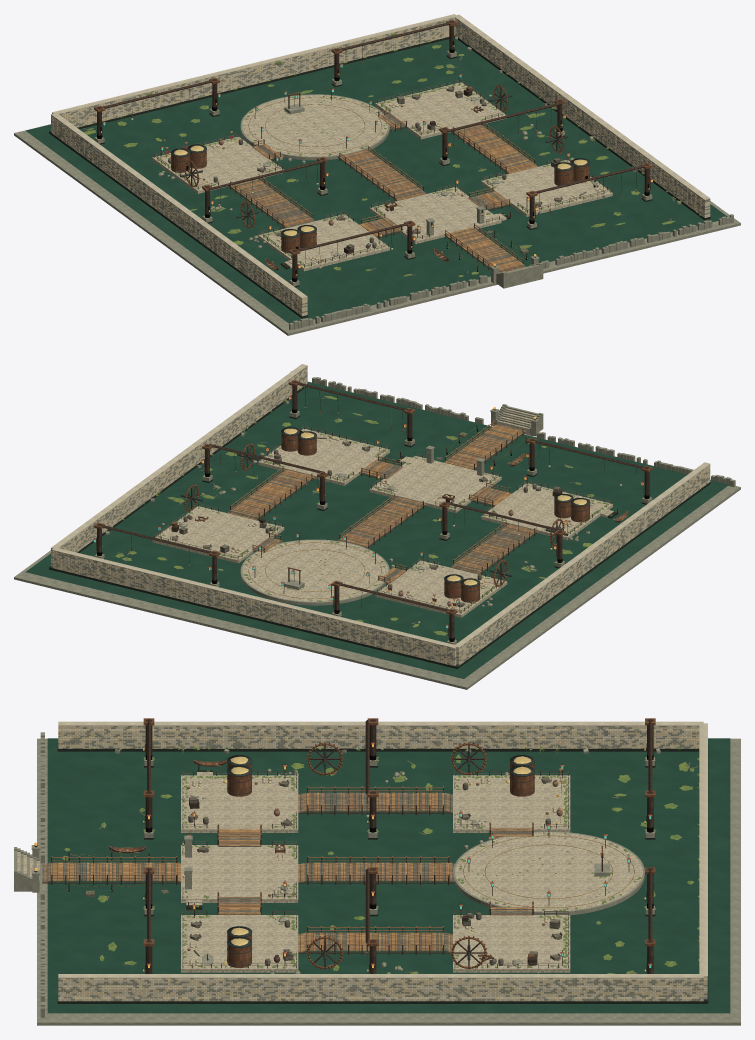
The model's file is mill-cellar.glb.
The picture shows the model from 3 angles, top to bottom: view 1: azimuth 30°, elevation 25°; view 2: azimuth 150°, elevation 25°; view 3: azimuth 270°, elevation 25°; orthographic projection. The views are drawn at different scales.
Parts seen in each view (by area): view 1: Water surface | water, Raised flagstone rooms | paving, Boundary / individual masonry blocks | stone, Boundary / individual masonry blocks | wall, Boundary / individual masonry blocks | plaster, Spirit arena paved surface | paving, Cellar foundation | stone, Boundary / wall coping | plaster, Bridge / separate deck boards | wood_weathered, Bridge / separate deck boards | plank, Bridge / separate deck boards | wood_light, Boundary / ruined parapet | stone (+15 smaller); view 2: Water surface | water, Raised flagstone rooms | paving, Cellar foundation | stone, Boundary / individual masonry blocks | plaster, Boundary / individual masonry blocks | wall, Boundary / individual masonry blocks | stone, Spirit arena paved surface | paving, Boundary / wall coping | plaster, Bridge / separate deck boards | wood_weathered, Bridge / separate deck boards | plank, Bridge / separate deck boards | wood_light, Wall damp band | wetstone (+13 smaller); view 3: Water surface | water, Raised flagstone rooms | paving, Cellar foundation | stone, Boundary / individual masonry blocks | stone, Boundary / individual masonry blocks | wall, Boundary / individual masonry blocks | plaster, Spirit arena paved surface | paving, Boundary / wall coping | plaster, Bridge / separate deck boards | wood_weathered, Bridge / separate deck boards | plank, Bridge / separate deck boards | wood_light, Wall damp band | wetstone (+20 smaller).
Boxes of the visible parts, x1,y1,x2,y2 form: Water surface | water: [26, 37, 727, 323]; Raised flagstone rooms | paving: [152, 82, 612, 271]; Boundary / individual masonry blocks | stone: [51, 18, 710, 314]; Boundary / individual masonry blocks | wall: [51, 18, 710, 314]; Boundary / individual masonry blocks | plaster: [51, 17, 710, 316]; Spirit arena paved surface | paving: [242, 95, 388, 156]; Cellar foundation | stone: [14, 124, 740, 335]; Boundary / wall coping | plaster: [51, 14, 710, 298]; Bridge / separate deck boards | wood_weathered: [229, 113, 531, 272]; Bridge / separate deck boards | plank: [230, 115, 537, 269]; Bridge / separate deck boards | wood_light: [233, 113, 535, 272]; Boundary / ruined parapet | stone: [289, 214, 733, 330]; Water surface | water: [25, 382, 728, 678]; Raised flagstone rooms | paving: [152, 428, 612, 617]; Cellar foundation | stone: [14, 381, 740, 689]; Boundary / individual masonry blocks | plaster: [51, 369, 710, 665]; Boundary / individual masonry blocks | wall: [51, 367, 710, 665]; Boundary / individual masonry blocks | stone: [51, 366, 710, 666]; Spirit arena paved surface | paving: [242, 540, 388, 601]; Boundary / wall coping | plaster: [51, 364, 709, 648]; Bridge / separate deck boards | wood_weathered: [228, 424, 537, 582]; Bridge / separate deck boards | plank: [228, 425, 534, 582]; Bridge / separate deck boards | wood_light: [234, 424, 538, 582]; Wall damp band | wetstone: [49, 383, 710, 668]; Water surface | water: [47, 738, 730, 1013]; Raised flagstone rooms | paving: [181, 775, 570, 972]; Cellar foundation | stone: [37, 738, 740, 1025]; Boundary / individual masonry blocks | stone: [58, 726, 707, 1001]; Boundary / individual masonry blocks | wall: [58, 726, 707, 1001]; Boundary / individual masonry blocks | plaster: [58, 726, 707, 1001]; Spirit arena paved surface | paving: [455, 832, 642, 911]; Boundary / wall coping | plaster: [58, 721, 707, 978]; Bridge / separate deck boards | wood_weathered: [42, 792, 532, 951]; Bridge / separate deck boards | plank: [51, 792, 532, 952]; Bridge / separate deck boards | wood_light: [44, 792, 532, 952]; Wall damp band | wetstone: [57, 745, 708, 1003].
Bounding box in the file's own units: 126 × 11.05 × 136.
Materials: 32 (32 with a texture image).
